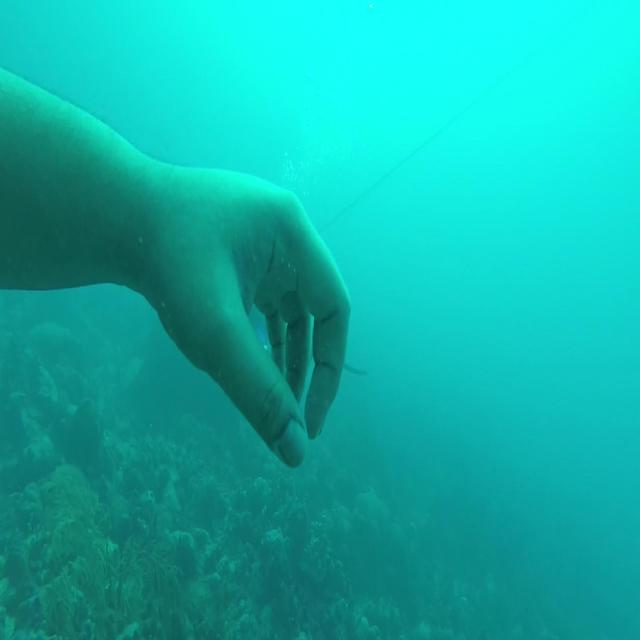human: (0, 64, 353, 468)
